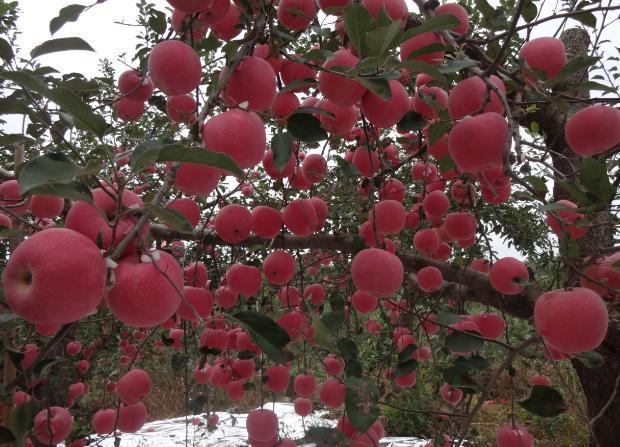apple: (3, 226, 106, 331), (106, 247, 184, 328), (531, 286, 609, 357), (65, 187, 150, 252), (202, 108, 271, 170), (448, 113, 512, 172), (219, 57, 278, 112), (315, 47, 370, 105), (145, 38, 200, 95), (564, 103, 620, 158), (349, 246, 405, 295), (447, 75, 508, 119), (361, 77, 413, 127), (517, 36, 566, 82), (316, 98, 359, 138), (411, 82, 452, 121), (277, 199, 319, 237), (490, 255, 528, 297), (33, 407, 74, 445), (213, 203, 251, 243), (367, 199, 408, 233), (116, 370, 152, 405), (225, 262, 259, 298), (260, 252, 295, 286), (277, 1, 316, 31), (442, 210, 478, 240), (118, 71, 155, 99), (252, 204, 281, 239), (112, 96, 148, 120), (163, 97, 197, 121), (414, 267, 444, 294)
